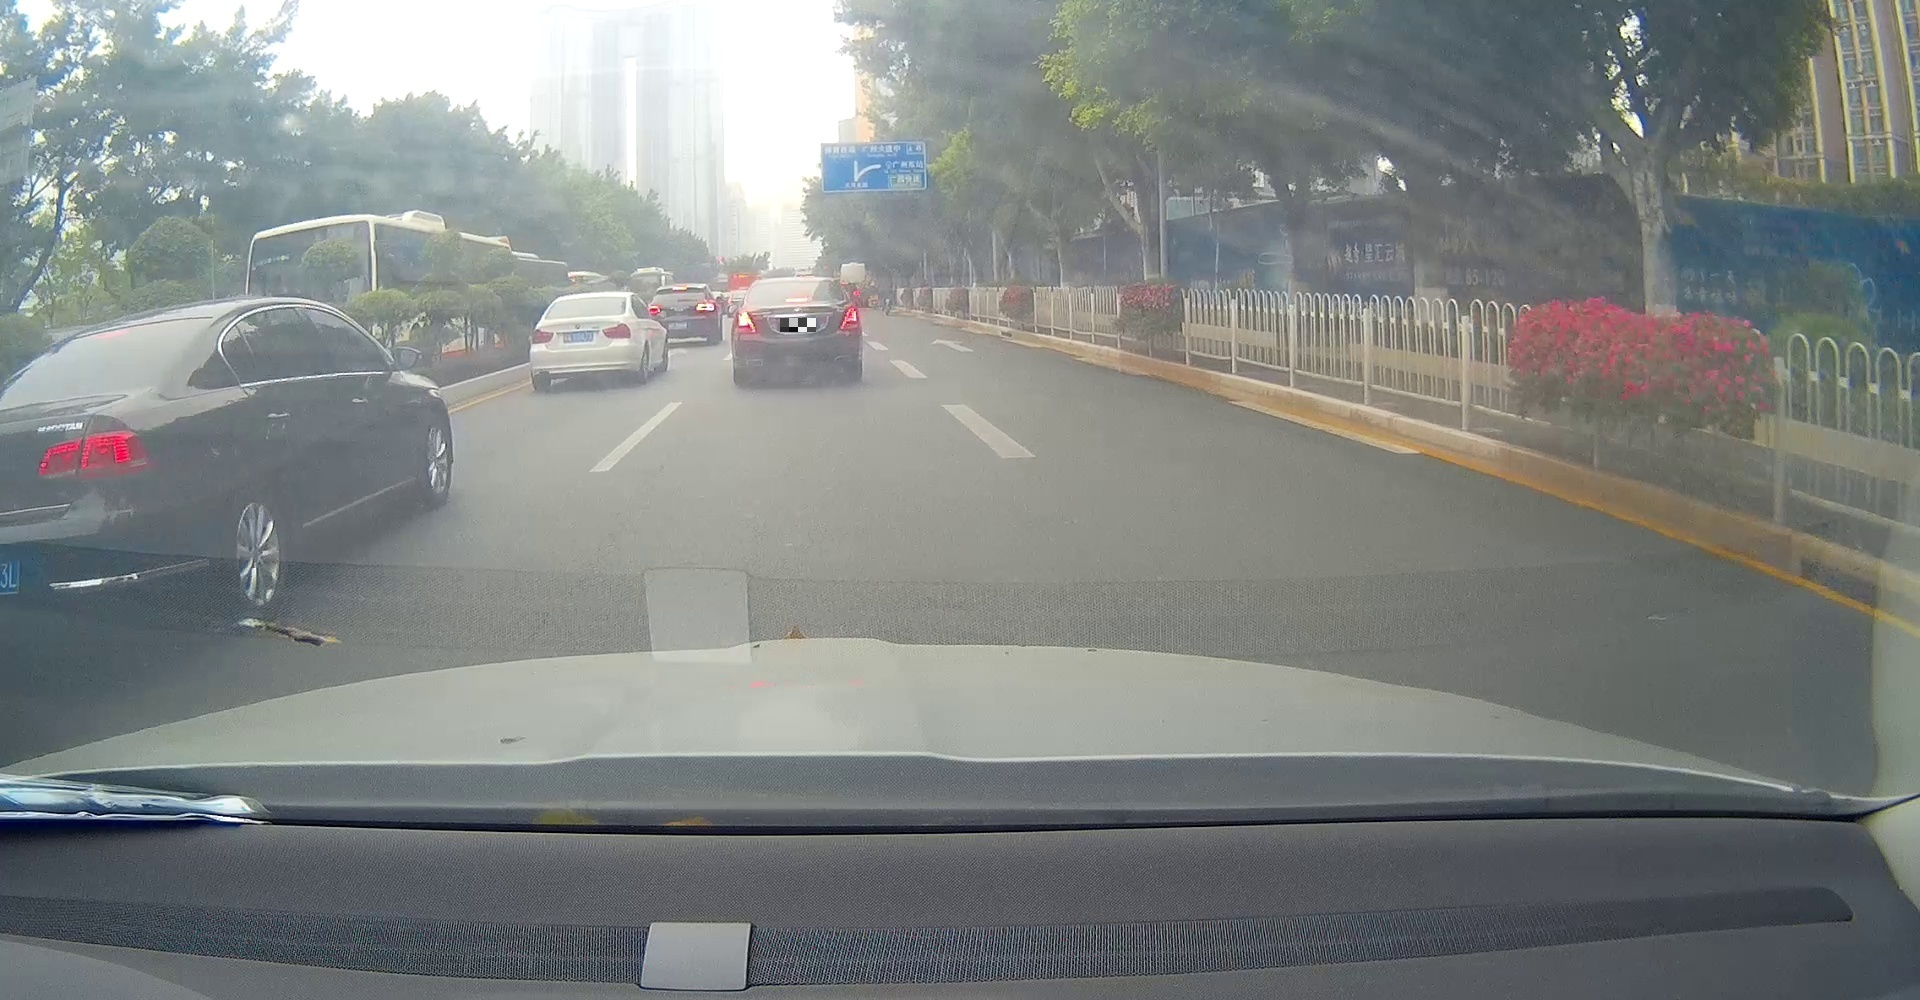L_light: (734, 310, 756, 332), (530, 329, 554, 344), (648, 305, 660, 315)
R_light: (839, 306, 860, 331), (602, 322, 631, 339), (696, 302, 716, 312)
T_light: (783, 296, 809, 303), (577, 297, 597, 302), (672, 286, 687, 291)
day-brake: (731, 275, 862, 385), (648, 283, 717, 346)
day-no: (528, 291, 632, 390)
plate_1: (780, 319, 817, 332)
